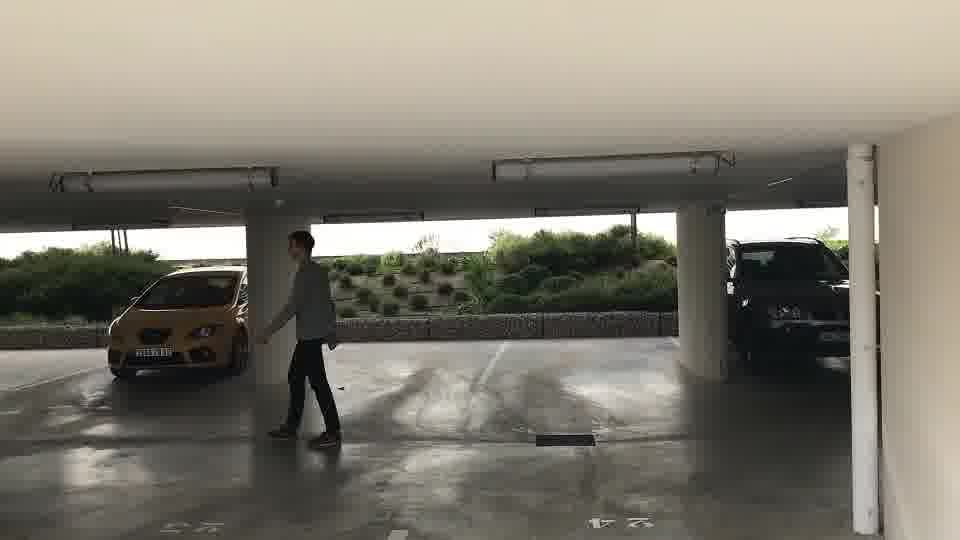jugador: (238, 227, 353, 451)
